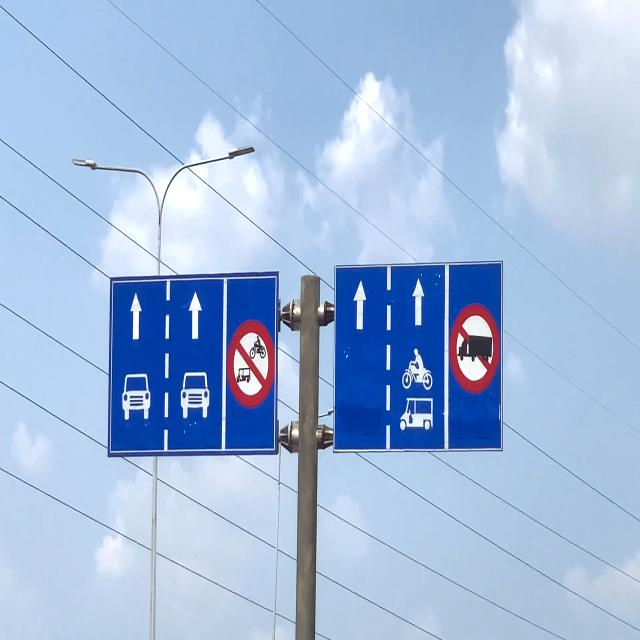P.106a: (448, 303, 500, 397)
